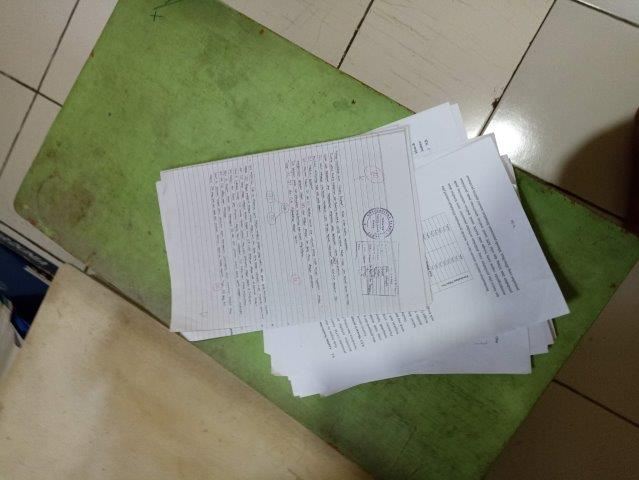kertas: (157, 101, 571, 397)
